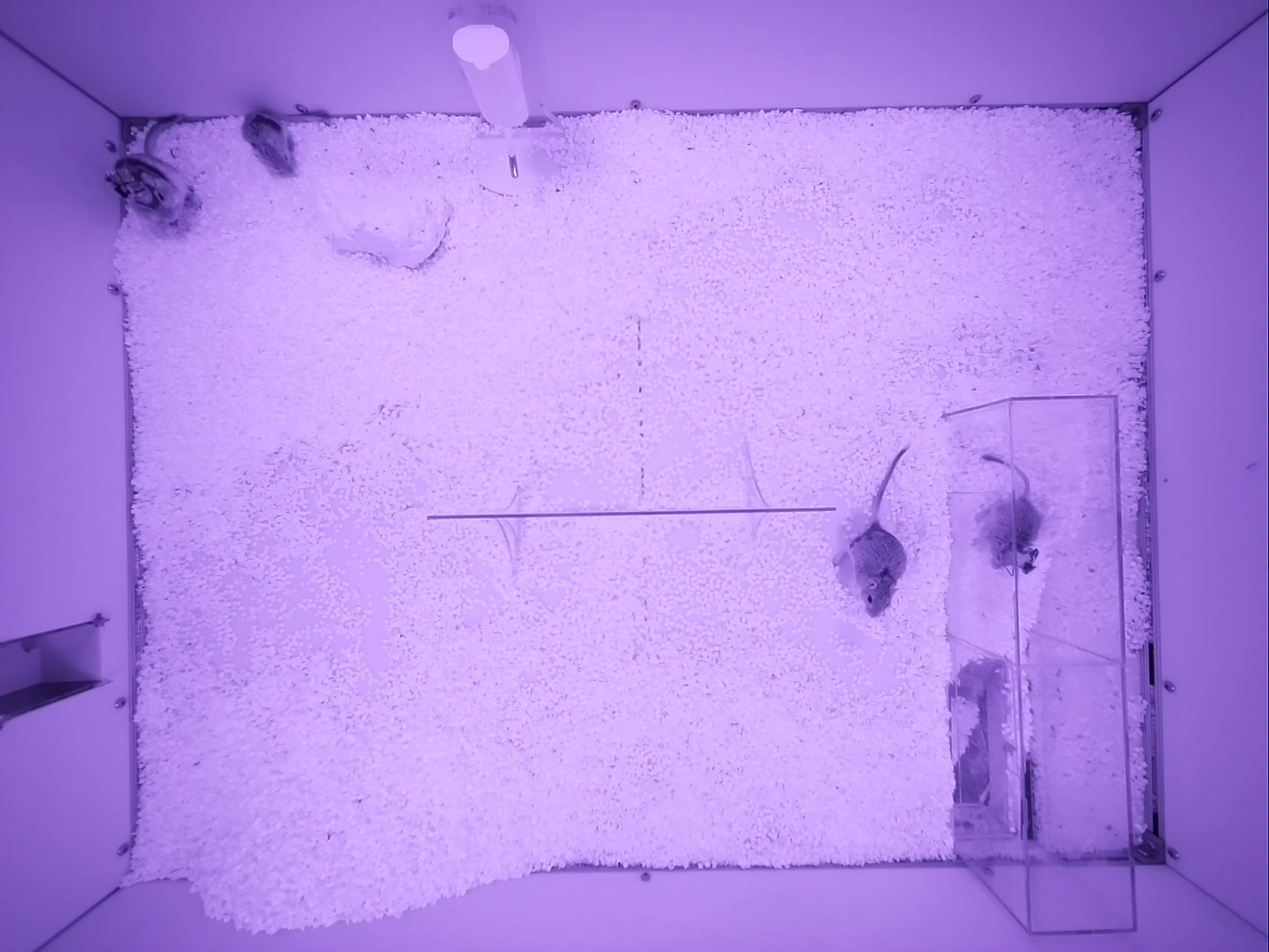adult_back: (838, 447, 907, 616), (108, 115, 198, 225), (980, 454, 1041, 573), (241, 110, 329, 175)
